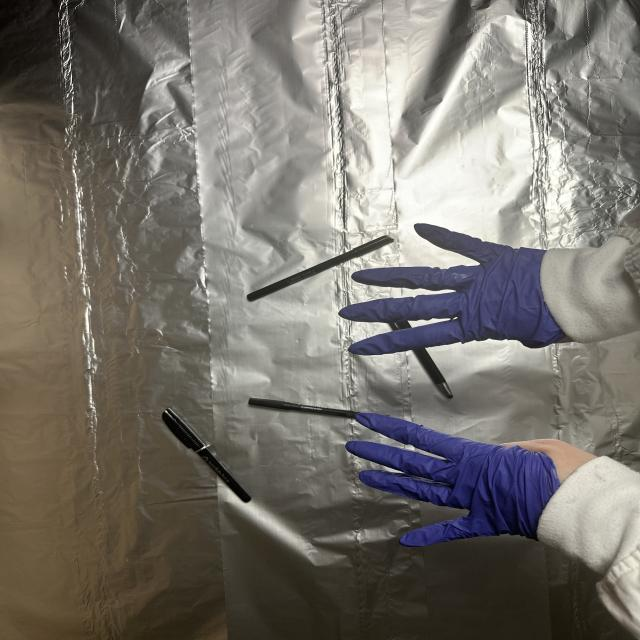glove_partial: (344, 408, 603, 550), (344, 219, 571, 360)
